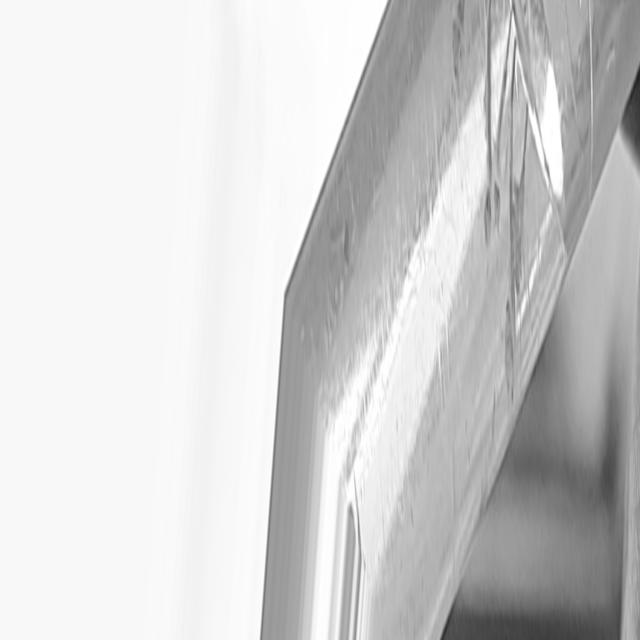larvas: (491, 9, 508, 207), (482, 2, 493, 235), (518, 99, 531, 218), (506, 44, 514, 209), (503, 288, 512, 404), (512, 214, 522, 306), (450, 0, 463, 56)
